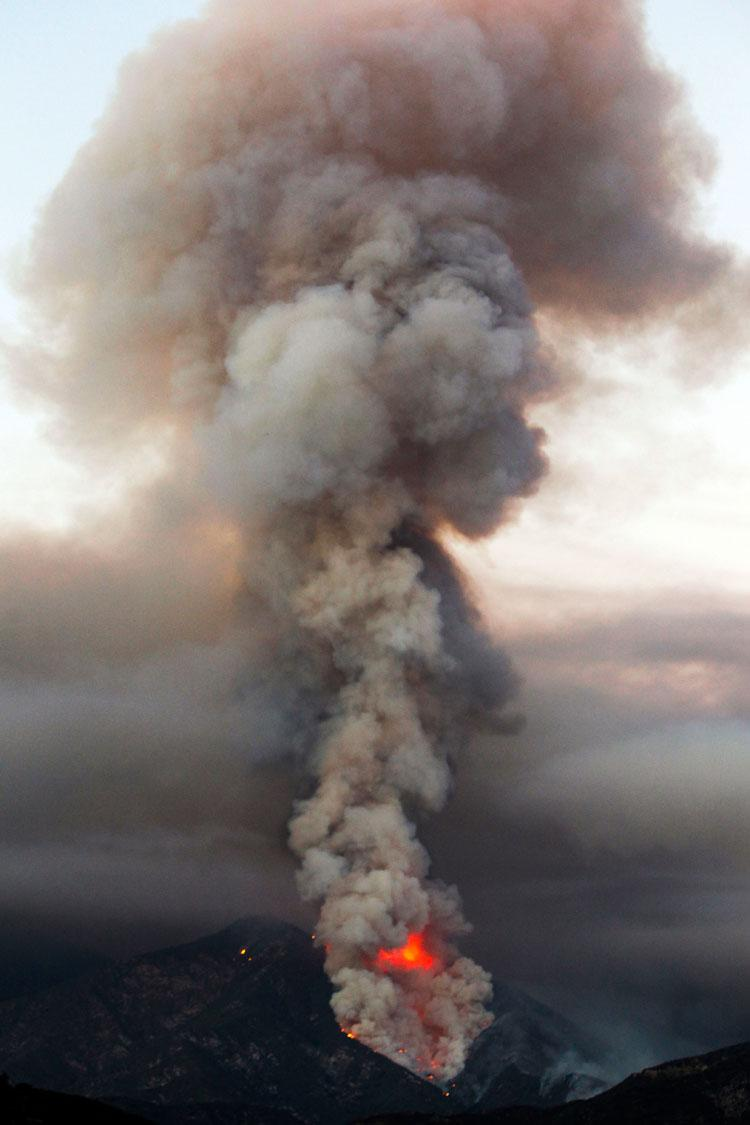smoke: (151, 4, 595, 1076)
